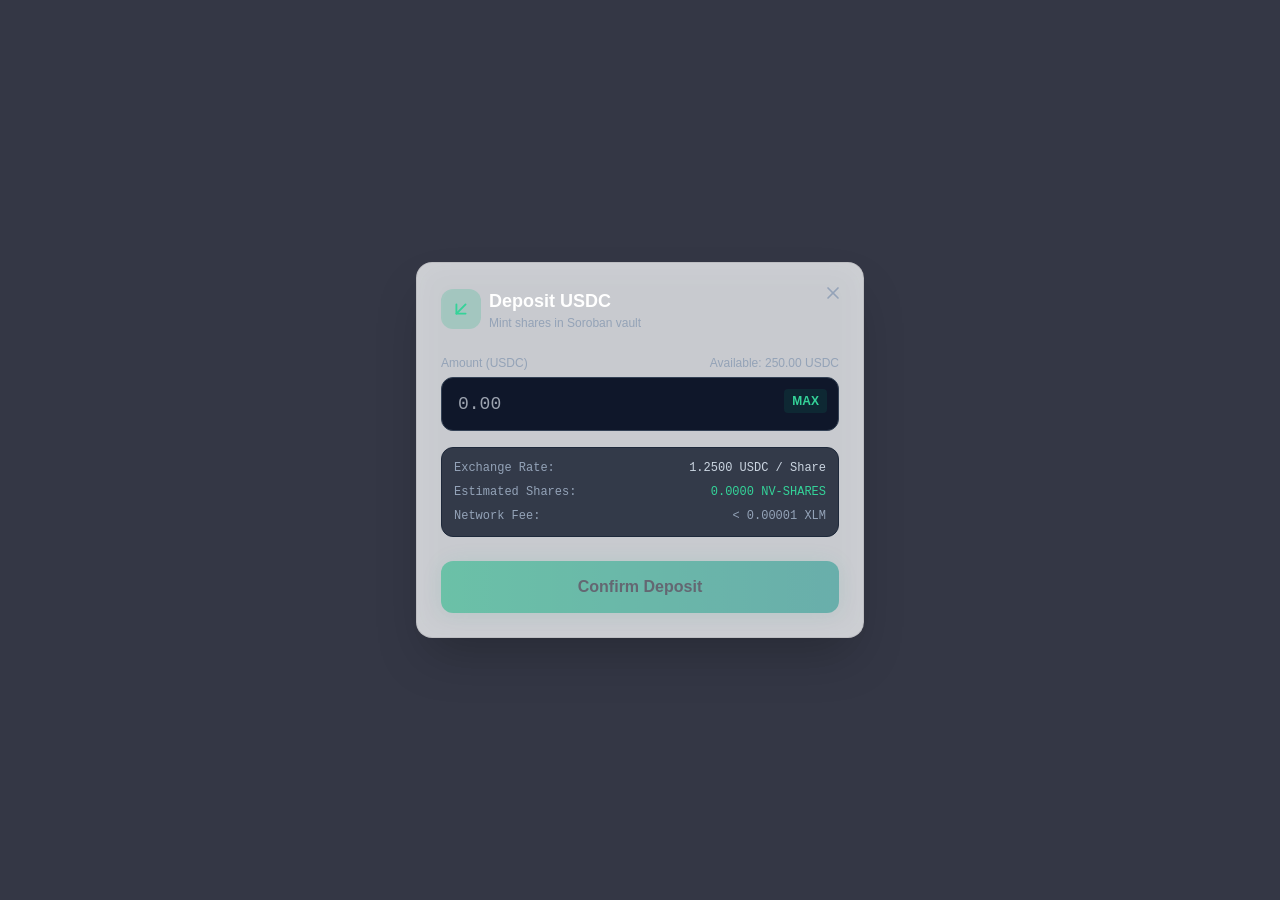
Test: ActionModal › shows a generic transaction error when an unclassified failure occurs
The width and height of the screenshot is (1280, 900).
Type "25" into the number field with placeholder "0.00" at (640,404), box [441,377,839,431]
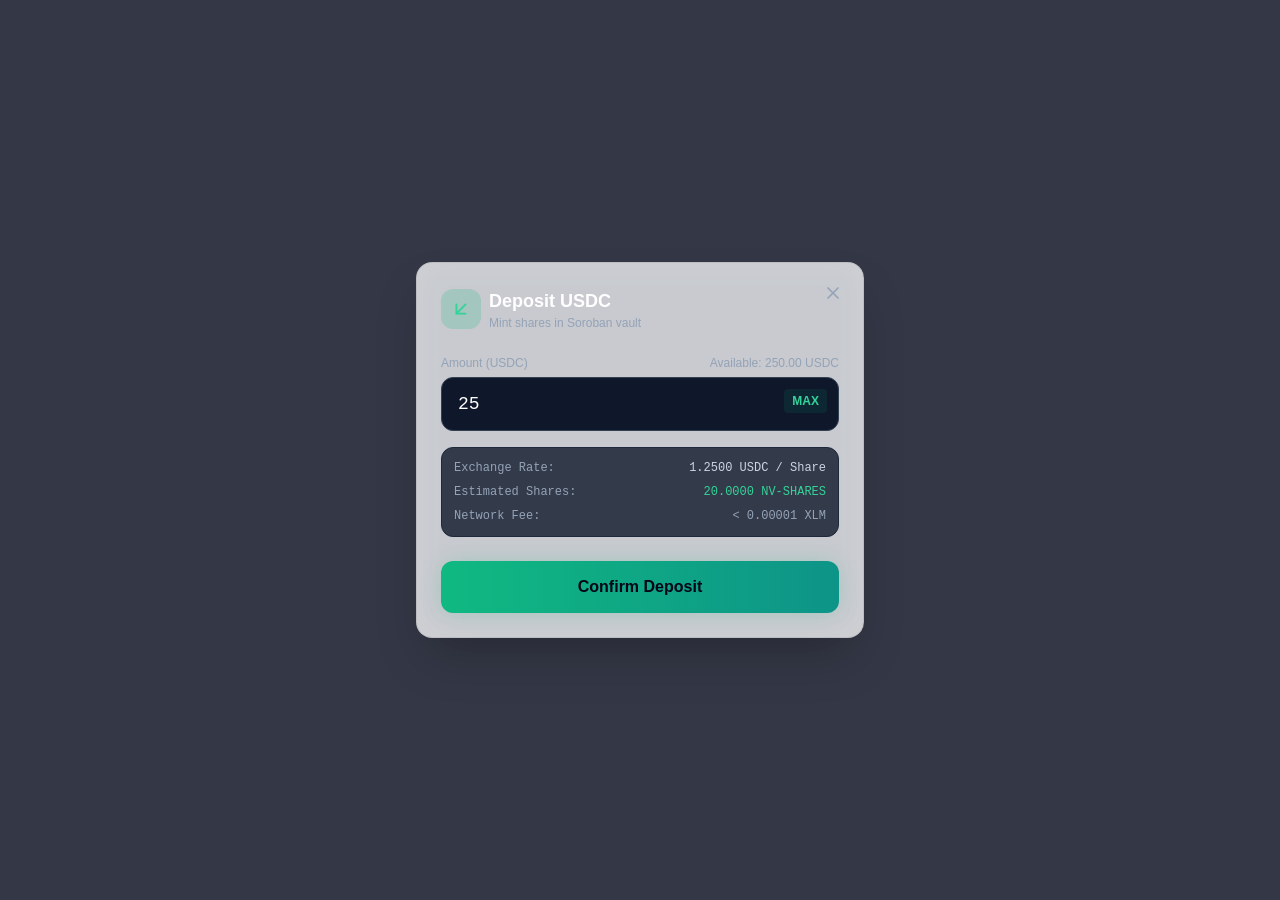
Submit the form named "confirm deposit", box [441,287,839,613]
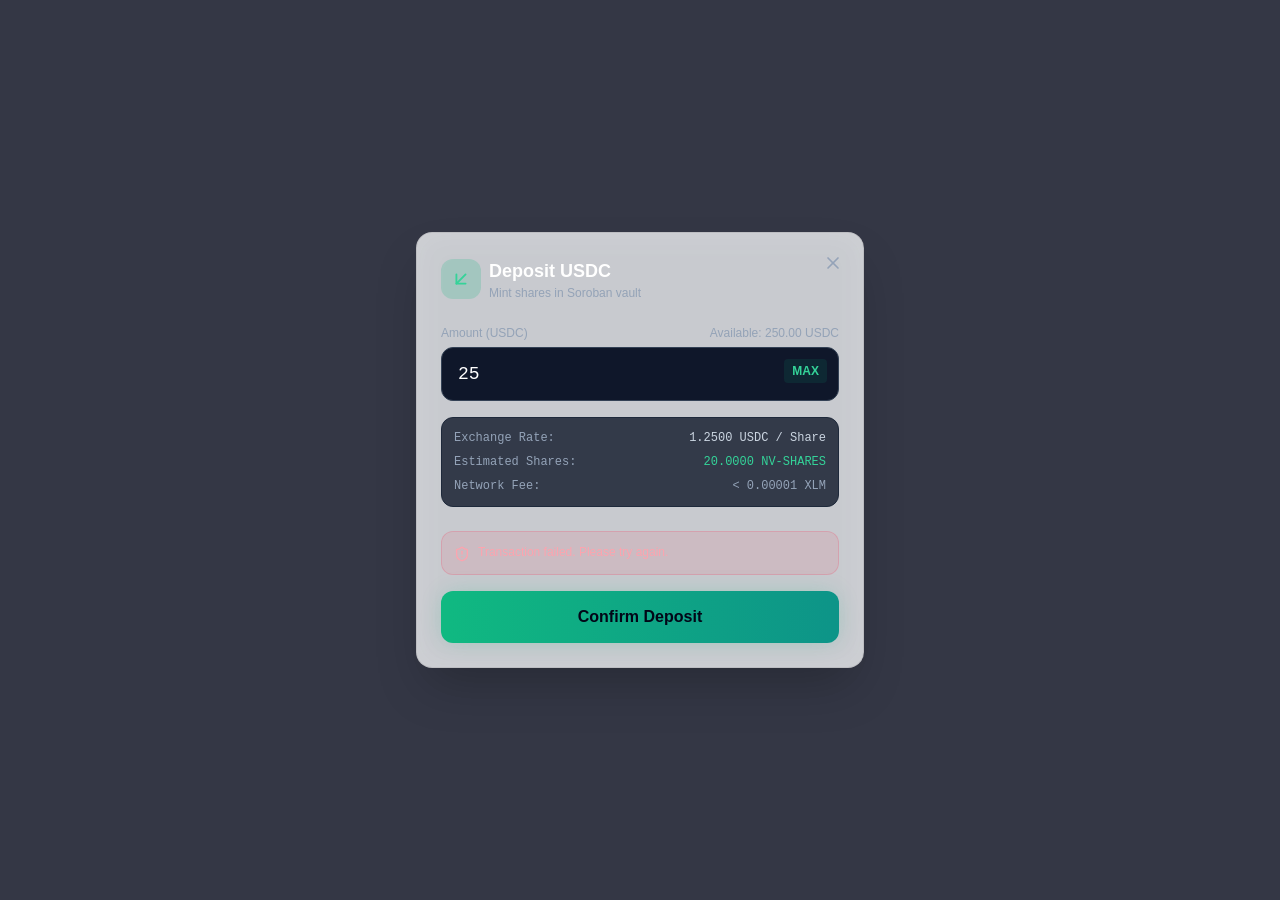
Now the button "Confirm Deposit" is enabled, box [441,591,839,643]
Now the message reads "Transaction failed. Please try again.", box [478,545,668,559]
